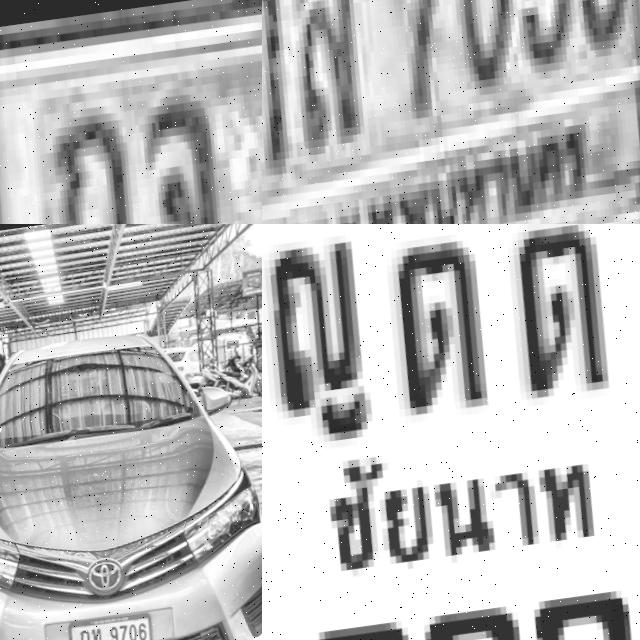license-plate: (262, 224, 640, 640), (262, 0, 640, 224), (0, 0, 262, 224), (65, 610, 165, 640)
